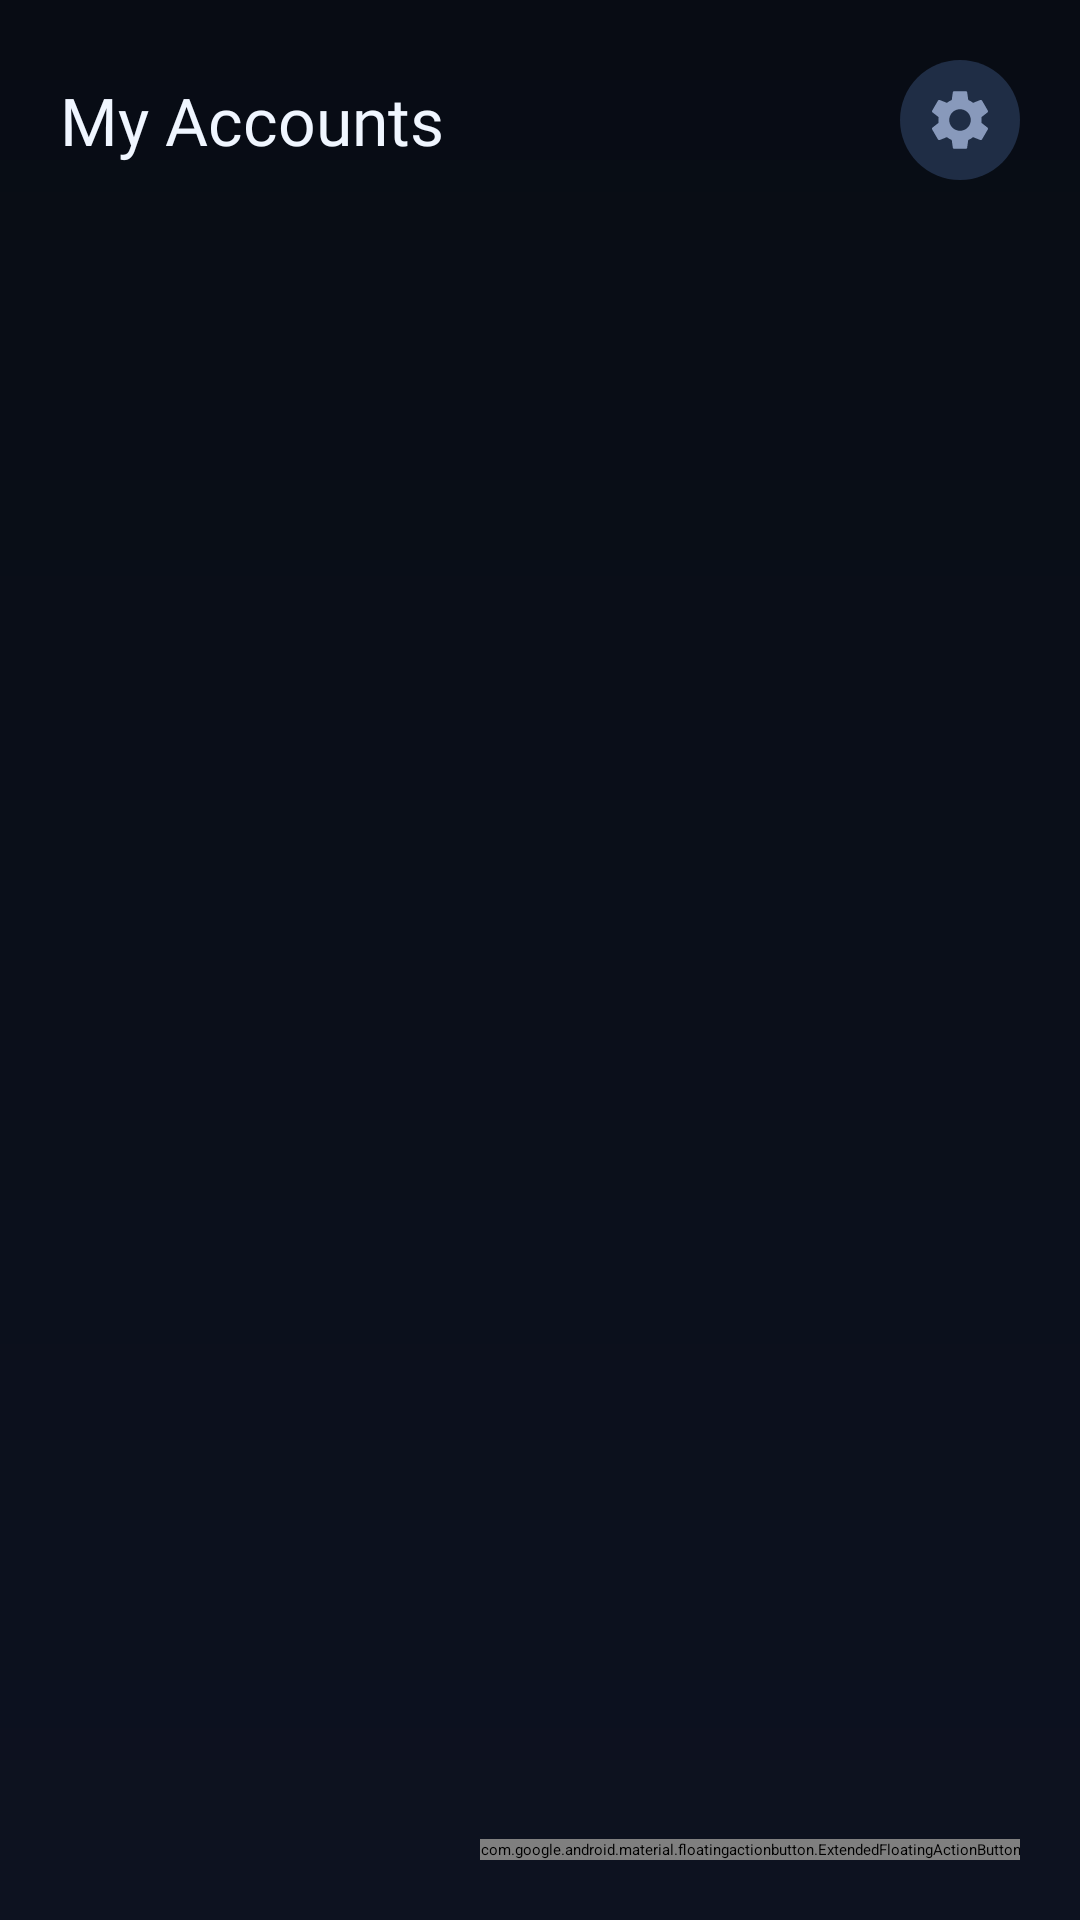

Screen size 1080x1920. Icon name, then its box in pixels as (x1,y1,x2,y2):
Settings: (900,60,1020,180)
